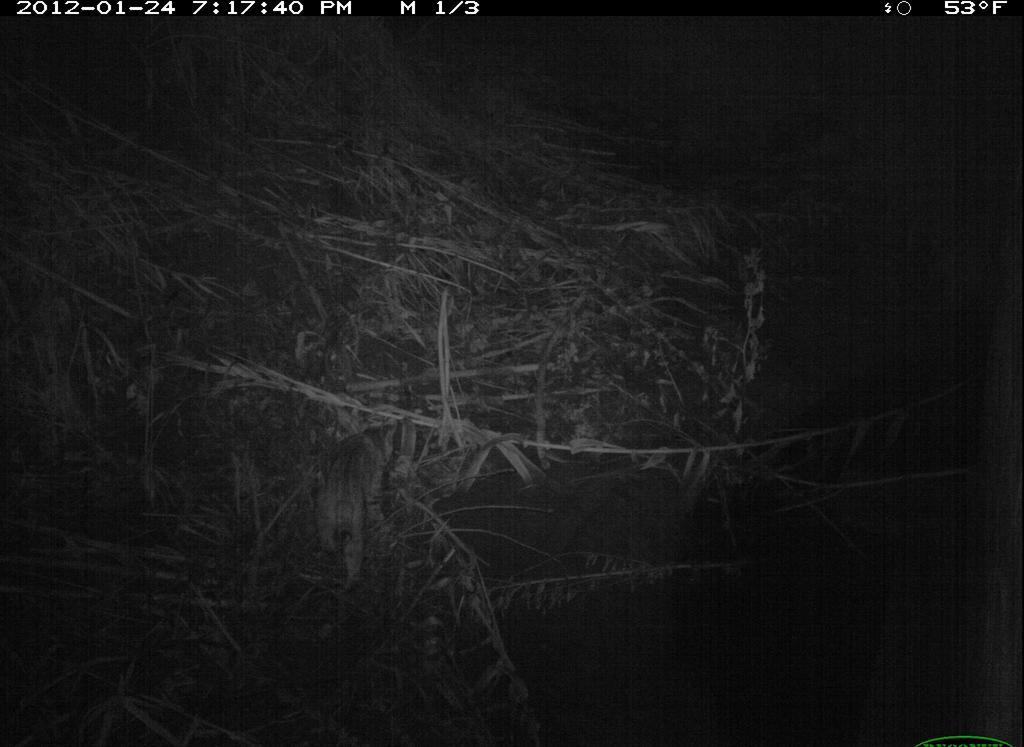bobcat: (309, 409, 431, 602)
